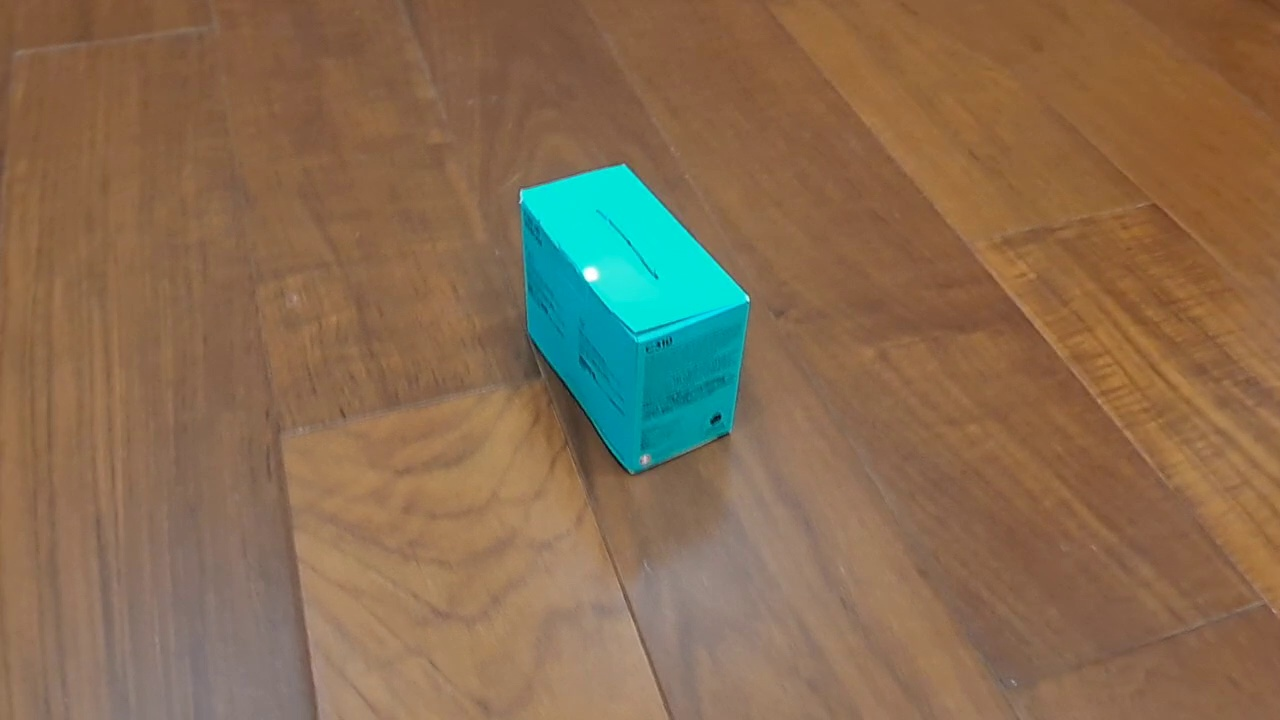webcam: (517, 161, 753, 478)
